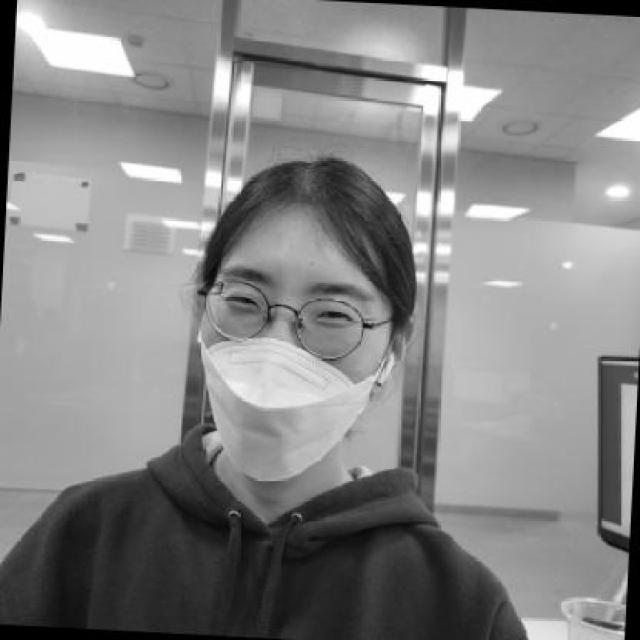earphone: (364, 341, 409, 396)
